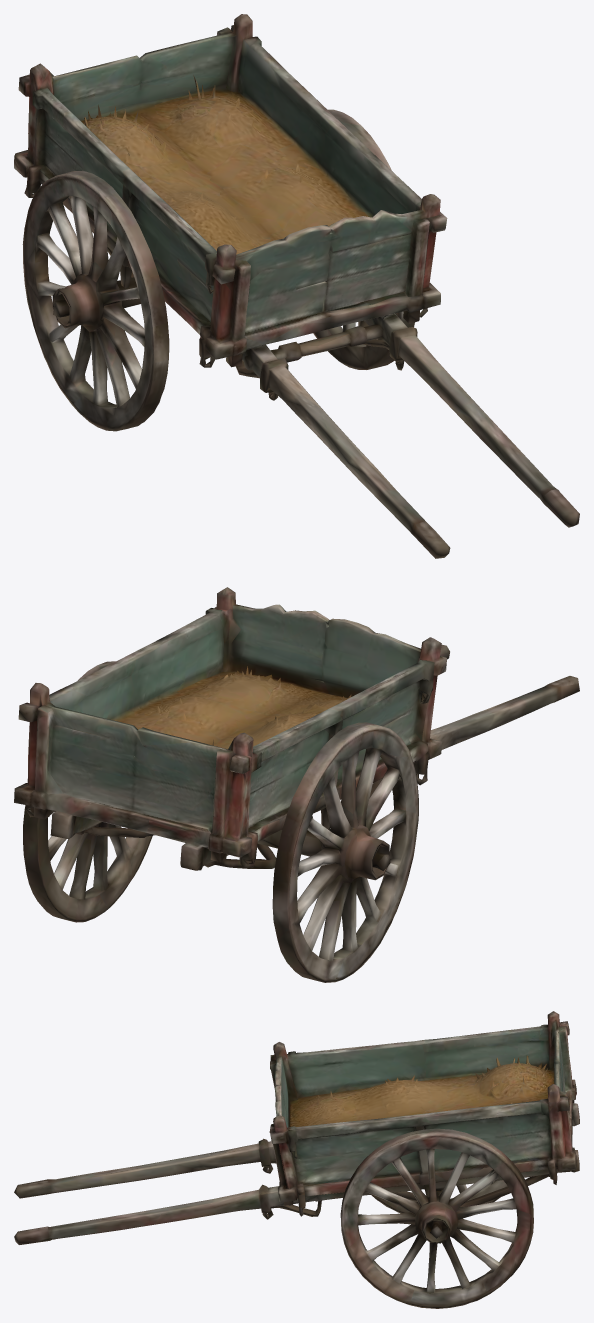
Rendered from prop_cart.glb.
3 views of the same model, one above another, from view 1: azimuth 30°, elevation 25°; view 2: azimuth 150°, elevation 25°; view 3: azimuth 270°, elevation 25° (orthographic). The views are drawn at different scales.
Visible parts, largest first — view 1: tripo_node_722e8d2c-6a13-402f-9b25-02e929023110; view 2: tripo_node_722e8d2c-6a13-402f-9b25-02e929023110; view 3: tripo_node_722e8d2c-6a13-402f-9b25-02e929023110.
Part boxes in pixels (bbox=[...]): tripo_node_722e8d2c-6a13-402f-9b25-02e929023110: bbox=[14, 14, 579, 558]; tripo_node_722e8d2c-6a13-402f-9b25-02e929023110: bbox=[14, 587, 579, 982]; tripo_node_722e8d2c-6a13-402f-9b25-02e929023110: bbox=[14, 1011, 579, 1308].
Size of the model in its own units: 0.493 by 0.4165 by 1.
1 material, 1 textured.
